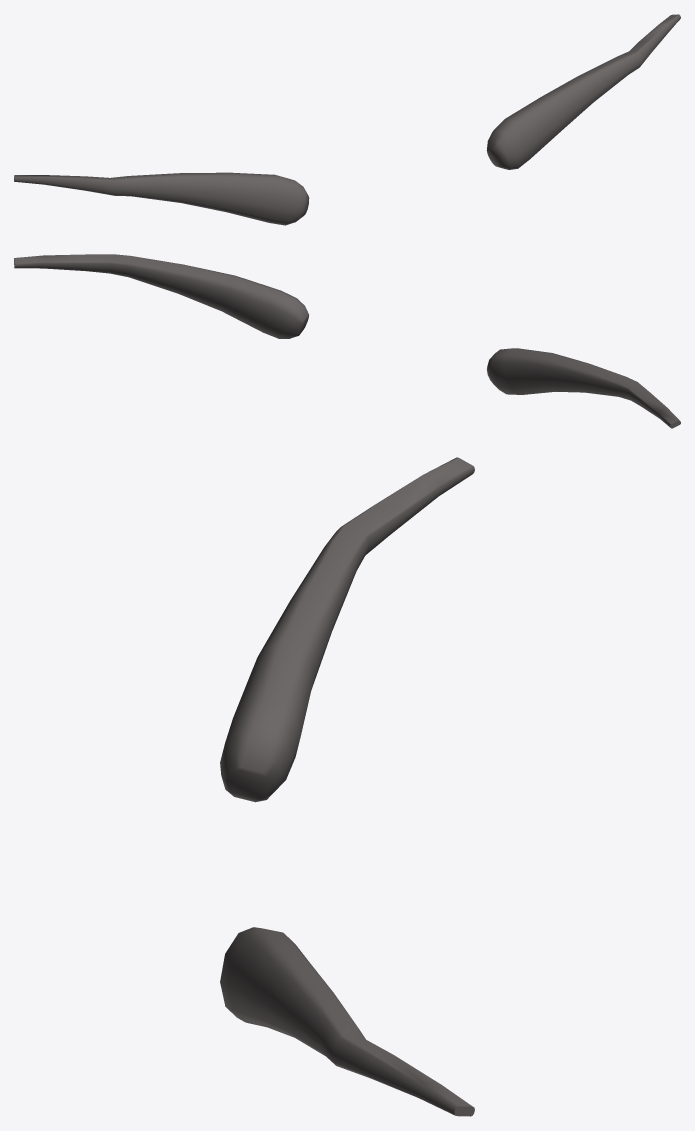
The model's file is Eyebrows_25_04.fbx.
3 views of the same model, one above another, from view 1: azimuth 30°, elevation 25°; view 2: azimuth 150°, elevation 25°; view 3: azimuth 270°, elevation 25° (orthographic). The views are drawn at different scales.
Visible parts, largest first — view 1: Eyebrows_25_04; view 2: Eyebrows_25_04; view 3: Eyebrows_25_04.
Part boxes in pixels (<box>): Eyebrows_25_04: <box>14,14,680,225</box>; Eyebrows_25_04: <box>14,254,680,428</box>; Eyebrows_25_04: <box>220,457,474,1116</box>.
Bounding box in the file's own units: 17.7 × 1.64 × 2.93.
